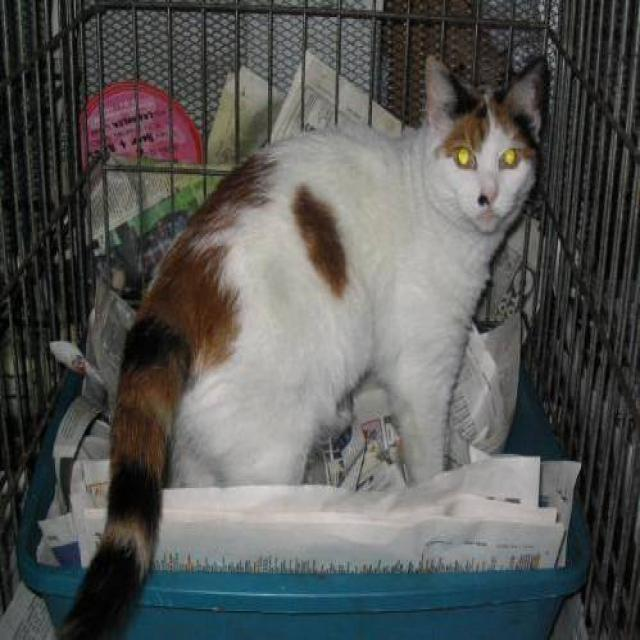cat: (54, 51, 550, 638)
